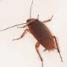cockroach: (26, 16, 56, 50)
